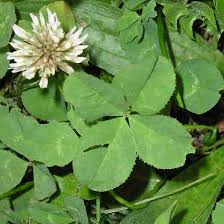4-clover: (65, 59, 190, 189)
